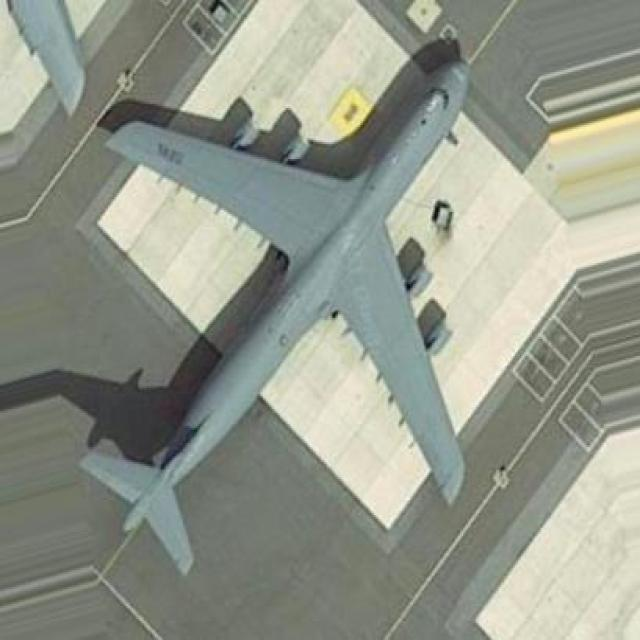C-5_TopDown: (78, 26, 474, 574)
